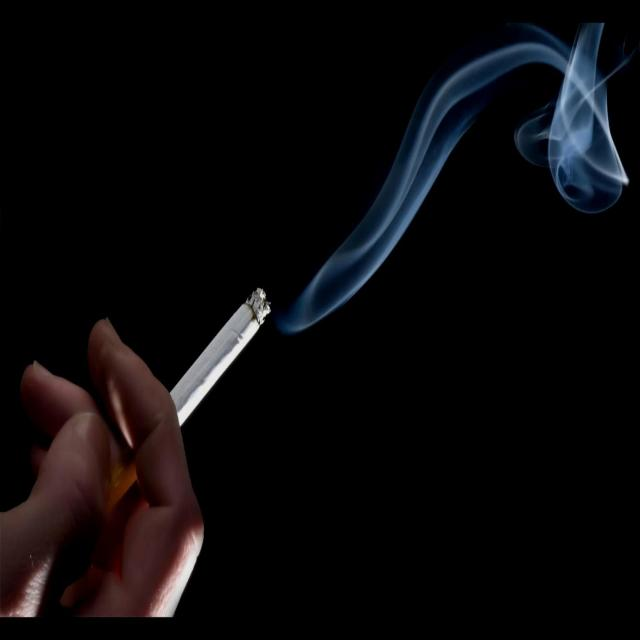smoke: (73, 280, 274, 562)
